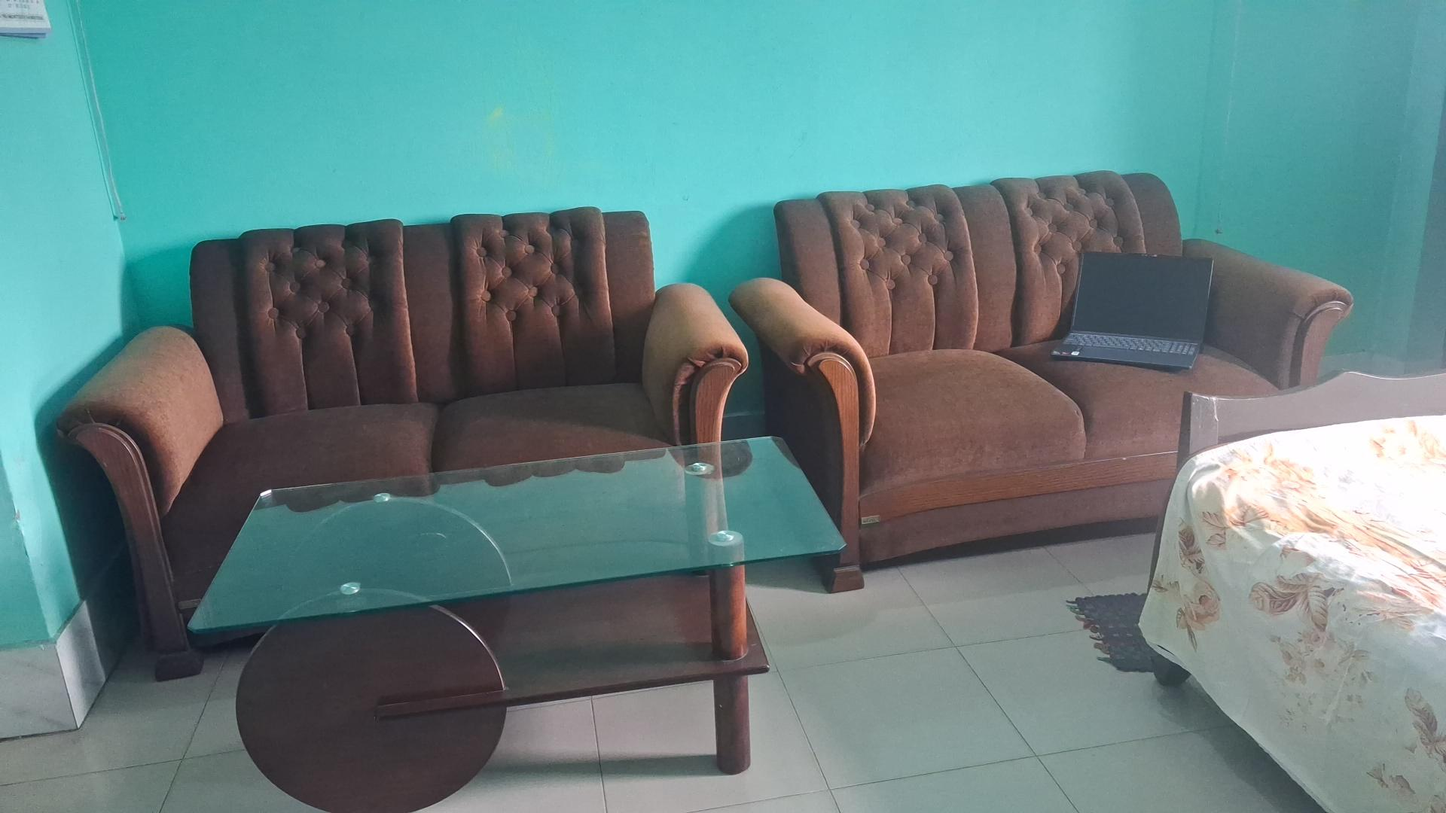Laptop: (1054, 245, 1221, 373)
Table: (197, 438, 846, 813)
